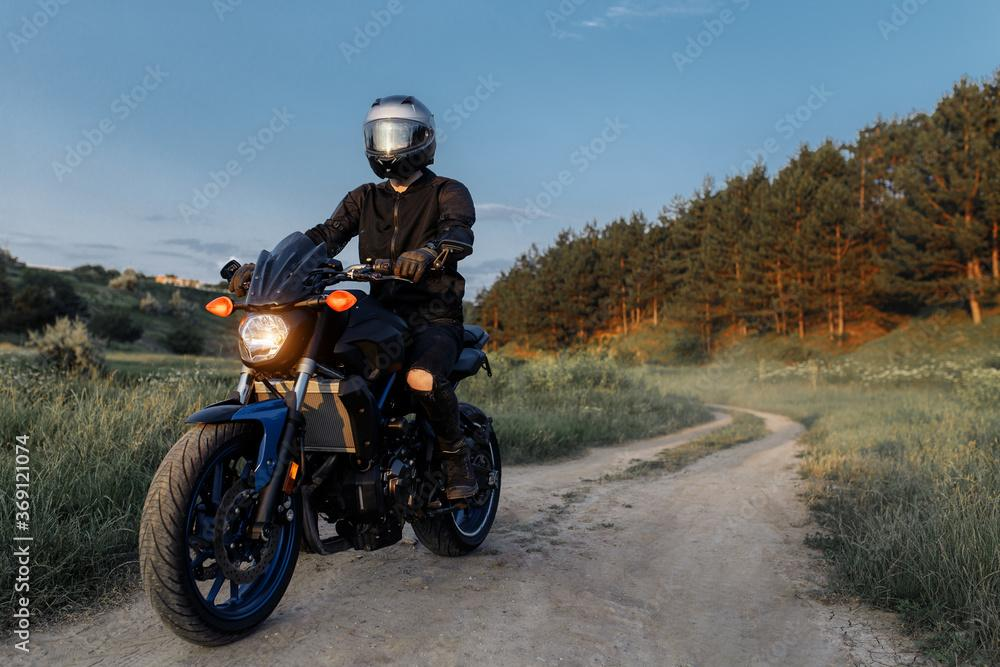helmet: (362, 94, 438, 182)
